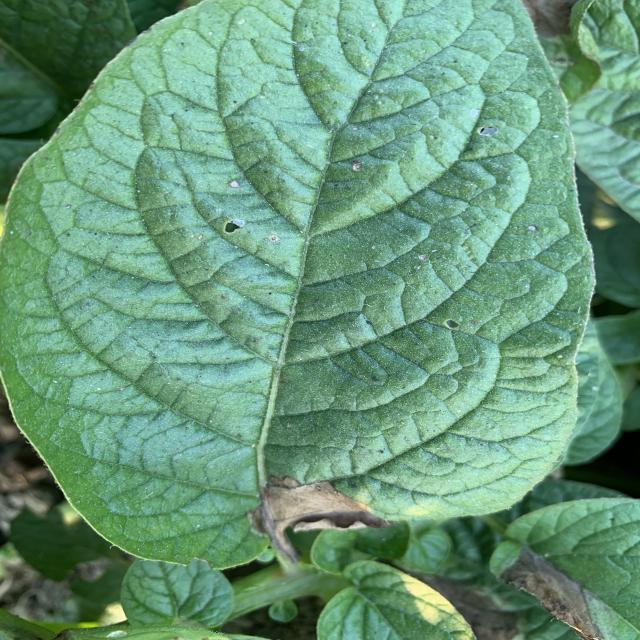lateblight: (258, 476, 388, 569), (490, 541, 602, 640)
